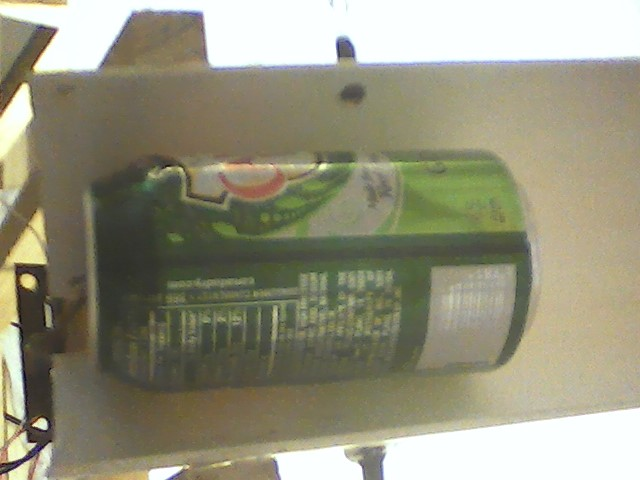lata: (79, 141, 543, 398)
